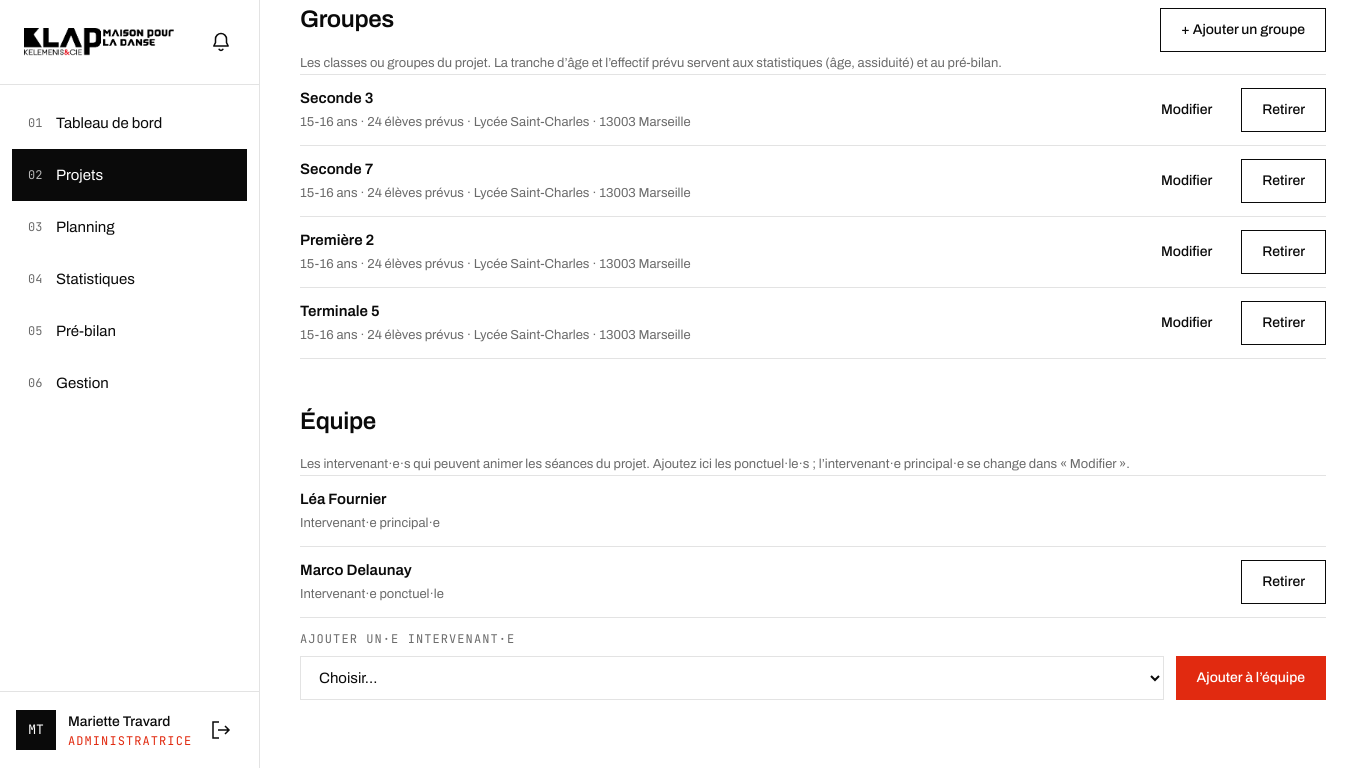
Scenario: Détail d’un projet › ajoute un·e ponctuel·le à l’équipe et en retire un·e, après confirmation (#251)
(page scrolled)
Check: the text "Intervenant·e principal·e" is shown, box [300,514,440,534]
Click the button "Ajouter à l’équipe" at coordinates (1251, 678), box [1176,656,1326,700]
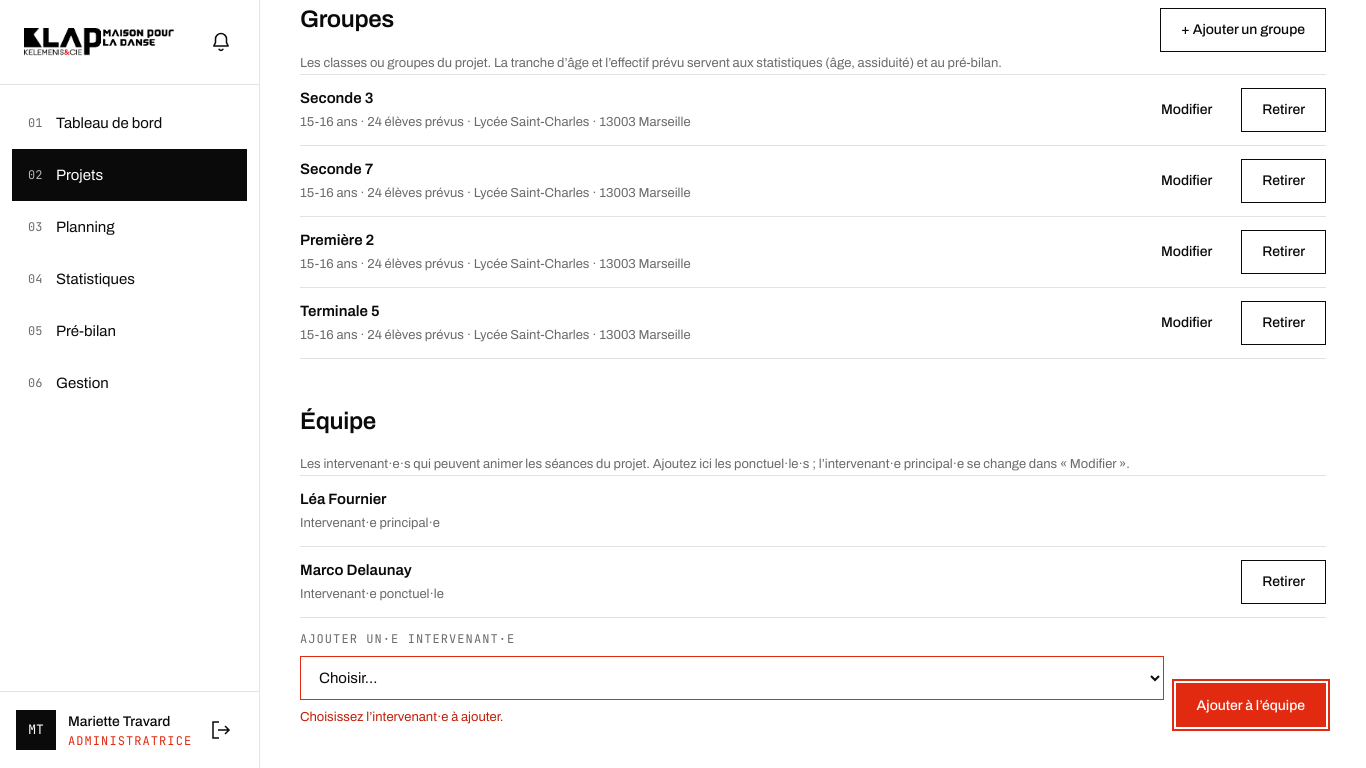
Check: the text "Choisissez l’intervenant·e à ajouter." is shown, box [300,710,503,724]
Select "Nina Roussel" in the dropdown labelled "Ajouter un·e intervenant·e" at coordinates (732, 678), box [300,656,1164,700]
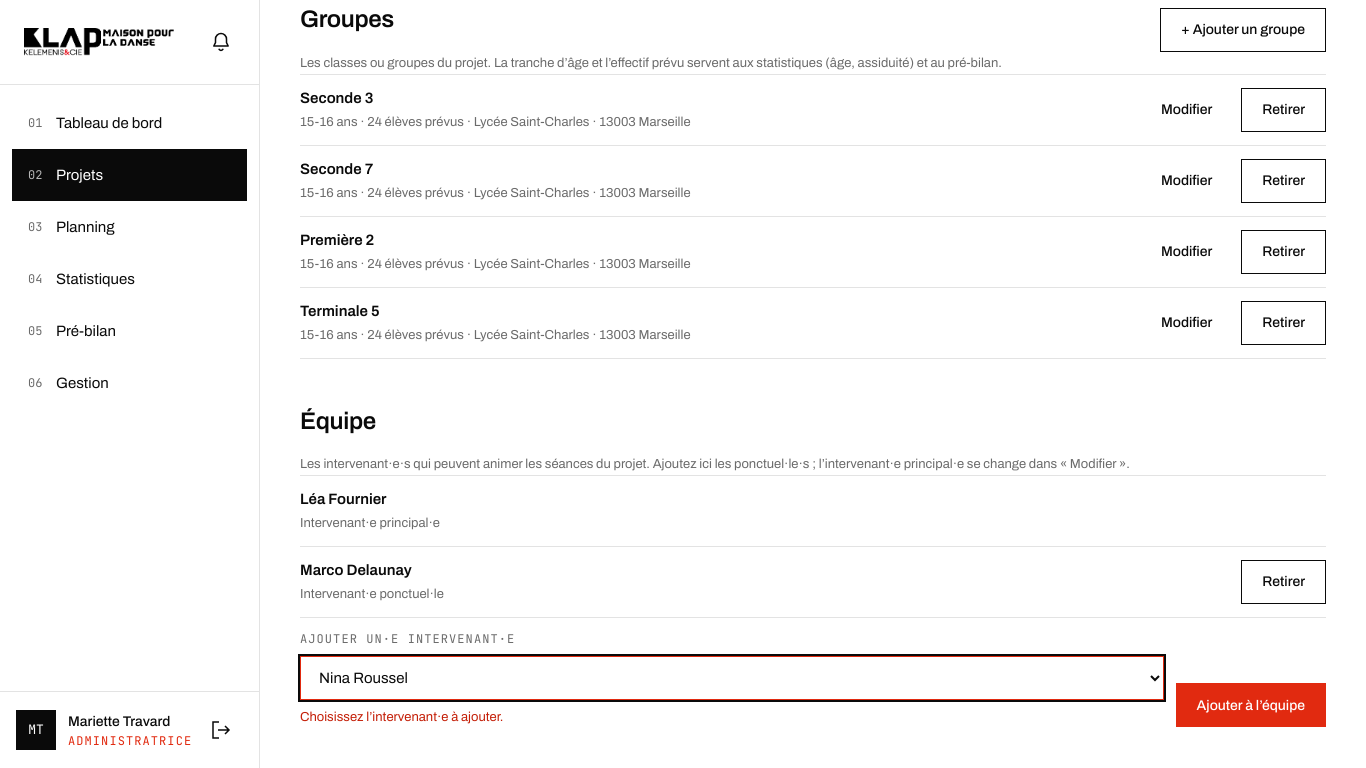
Click the button "Ajouter à l’équipe" at coordinates (1251, 705), box [1176,683,1326,727]
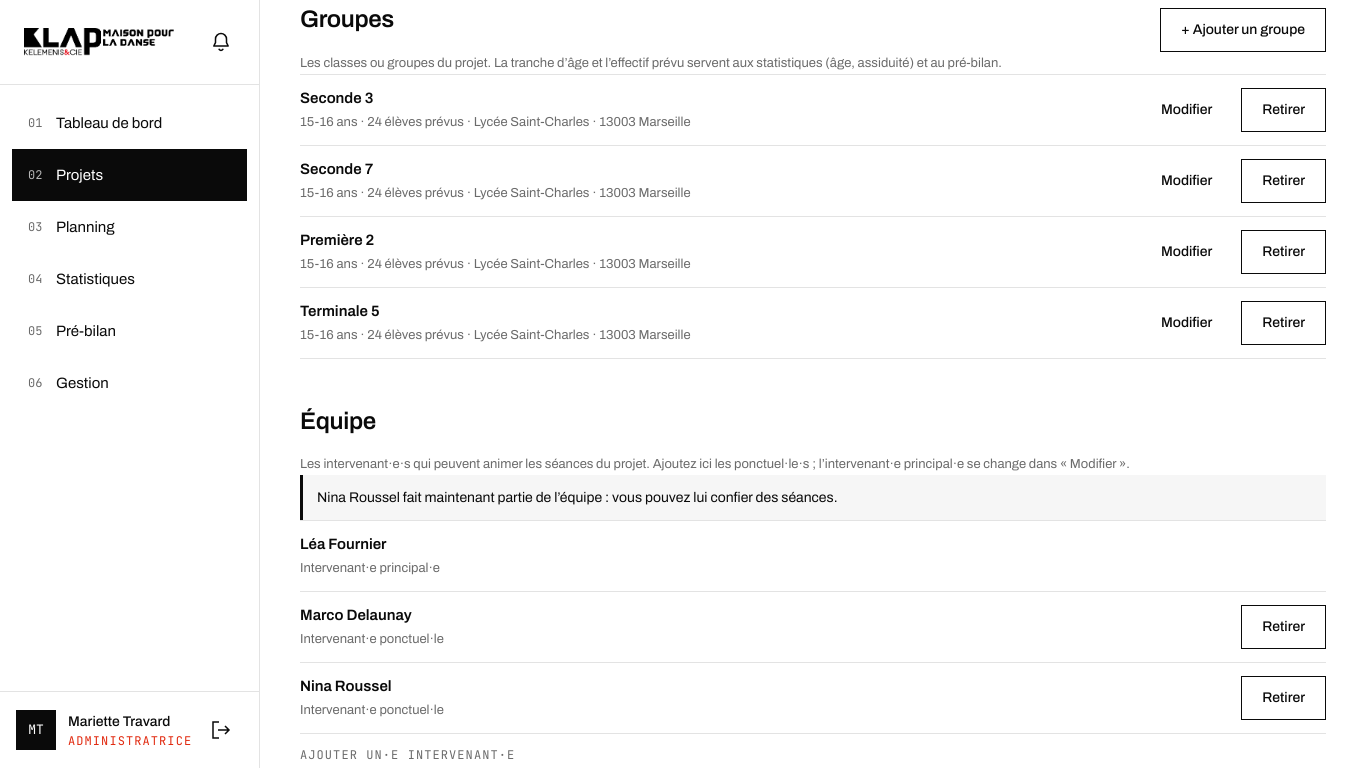
Check: the message shows "Nina Roussel fait maintenant partie de l’équipe", box [317,490,838,505]
Click the 5th button "Retirer" at coordinates (1284, 627), box [1241,605,1326,649]
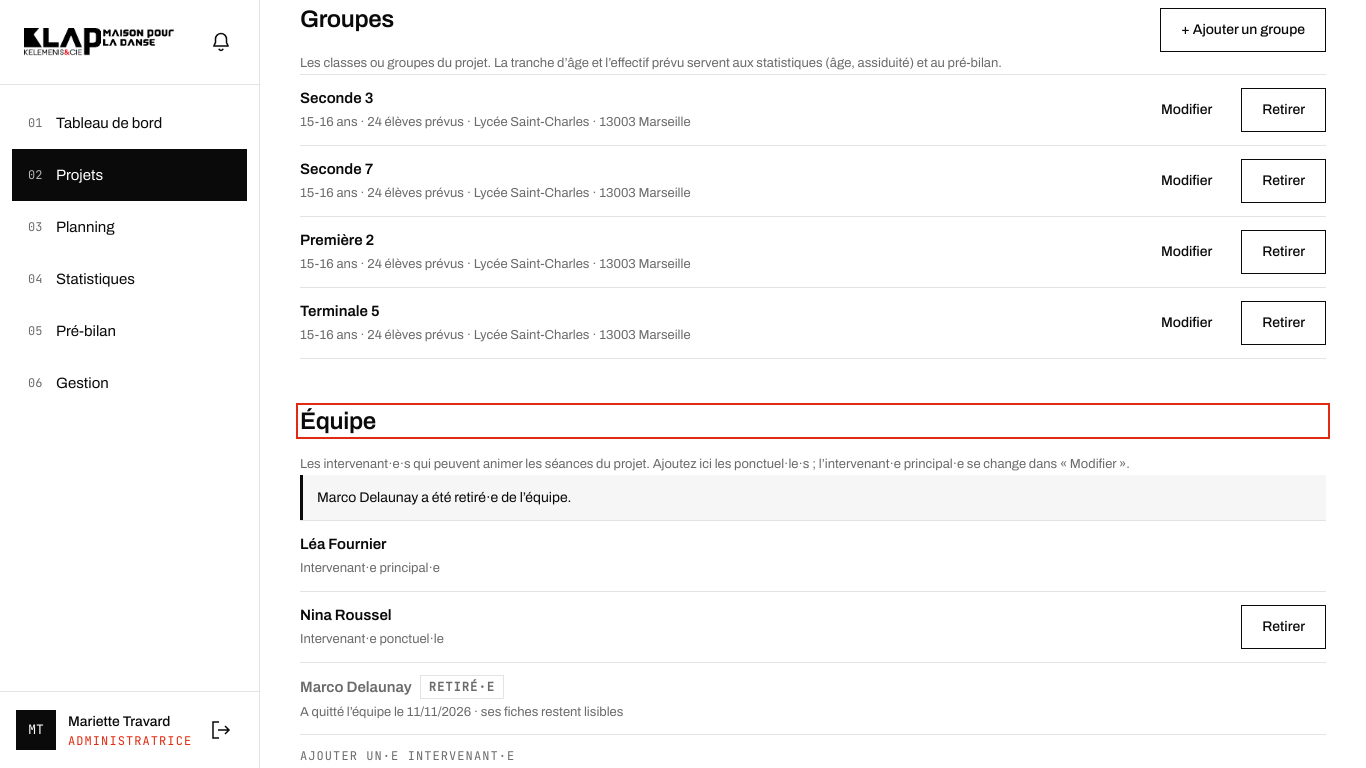
Check: the text "A quitté l’équipe le 11/11/2026 · ses fiches restent lisibles" is shown, box [300,703,623,722]
